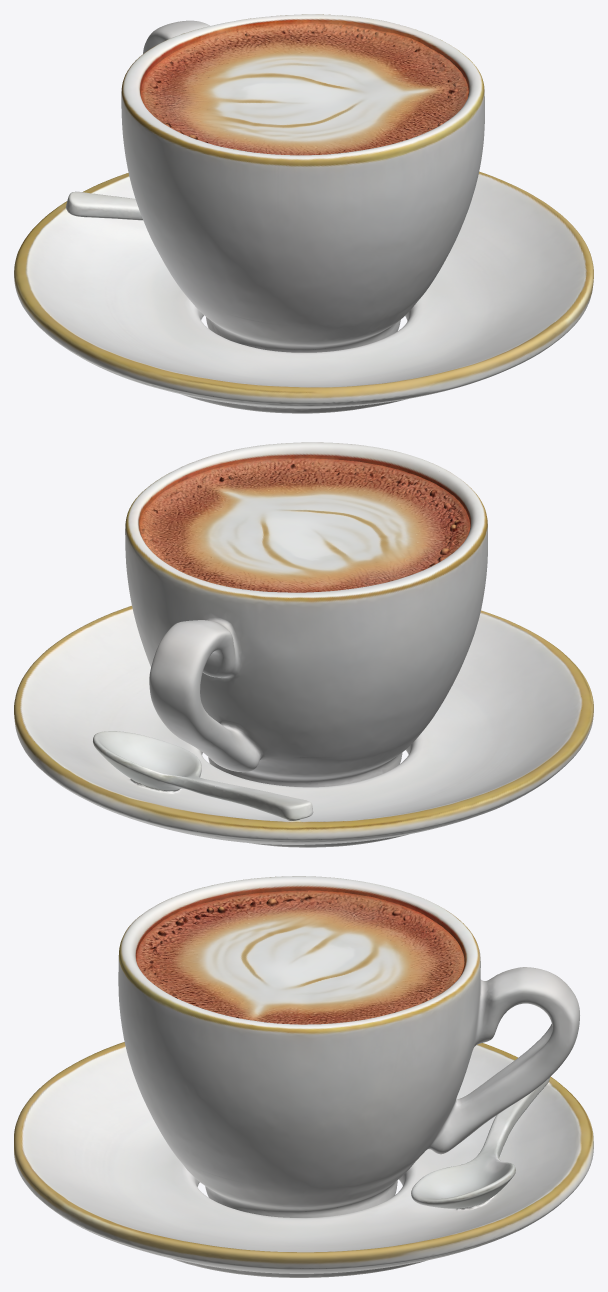
File: cup.glb
3 views of the same model, one above another, from view 1: azimuth 30°, elevation 25°; view 2: azimuth 150°, elevation 25°; view 3: azimuth 270°, elevation 25° (orthographic).
Parts seen in each view (by area): view 1: model; view 2: model; view 3: model.
Boxes of the visible parts, x1,y1,x2,y2 form: model: (14, 14, 593, 413); model: (14, 442, 593, 847); model: (14, 876, 593, 1277).
Size of the model in its own units: 1.87 by 0.9003 by 1.89.
Materials: 1 (1 with a texture image).
